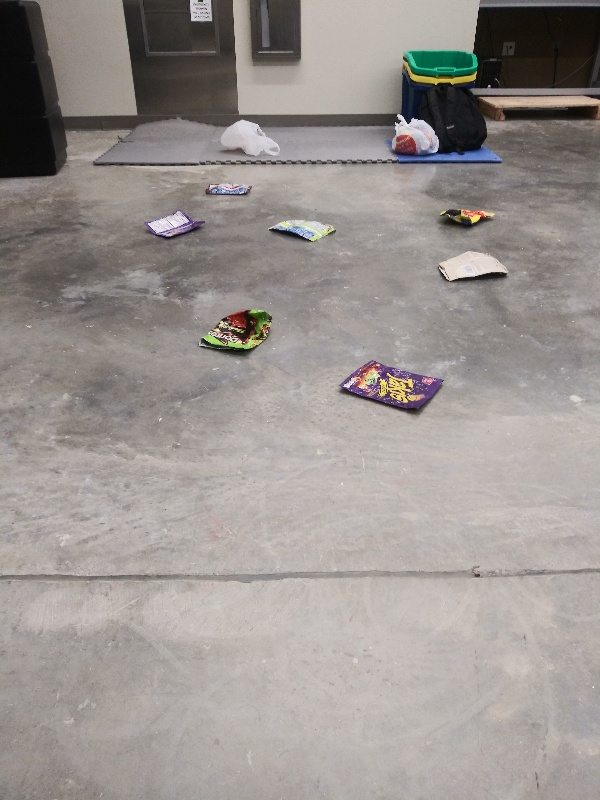bag: (335, 358, 446, 420), (195, 307, 281, 360), (430, 249, 512, 287), (264, 215, 341, 244), (139, 209, 211, 240), (434, 205, 501, 230), (201, 179, 258, 199)
